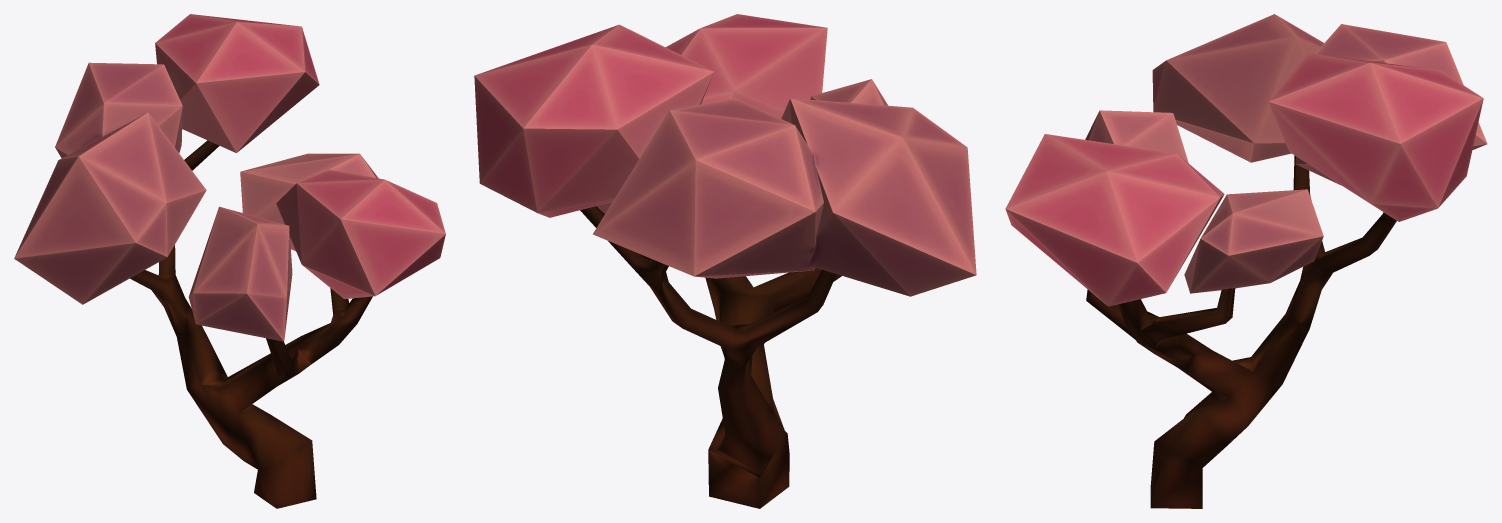
The model's file is Cherry_Blossom_Tree_c.gltf.
3 renders of one model, left to right at view 1: azimuth 30°, elevation 25°; view 2: azimuth 150°, elevation 25°; view 3: azimuth 270°, elevation 25°, orthographic. The views are drawn at different scales.
Parts seen in each view (by area): view 1: Cherry_Blossom_Tree_Model_03; view 2: Cherry_Blossom_Tree_Model_03; view 3: Cherry_Blossom_Tree_Model_03.
Part boxes in pixels (x1,y1,x2,y2): Cherry_Blossom_Tree_Model_03: [14, 14, 445, 508]; Cherry_Blossom_Tree_Model_03: [474, 14, 976, 508]; Cherry_Blossom_Tree_Model_03: [1005, 14, 1487, 508].
Size of the model in its own units: 2.2 by 2.36 by 2.26.
Materials: 1 (1 with a texture image).
